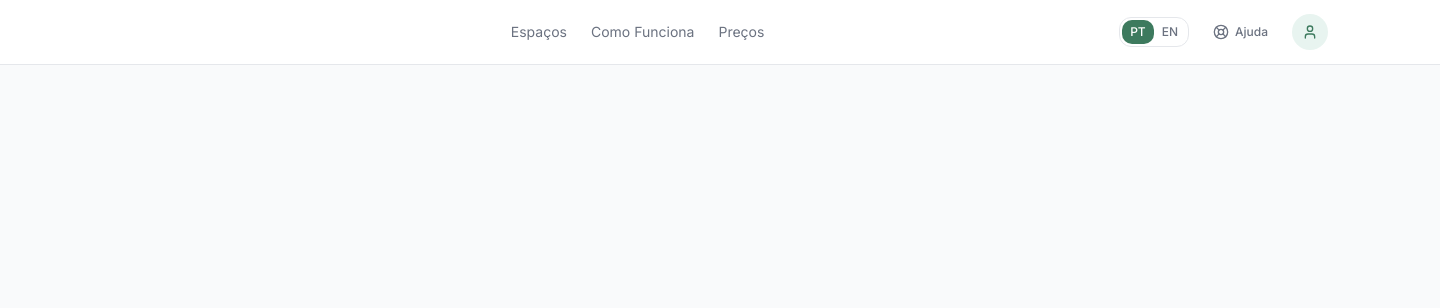
it: Navbar component i18n refactor (9.1) › offers reservations and sign-out to authenticated users
This screenshot has width=1440, height=308.
// B69: the signed-in entries sit behind the account menu on desktop.
Press Enter in the button named "A sua conta", box [1292,14,1328,50]
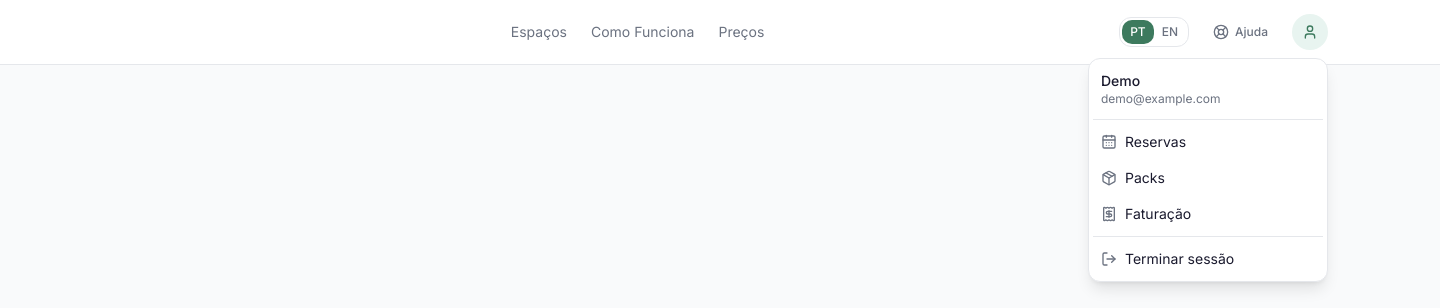
Now the menu item "Terminar sessão" is shown, box [1093,241,1323,277]
Now the text "demo@example.com" is shown, box [1101,91,1220,106]
Press Escape in the menu, box [1088,58,1328,282]
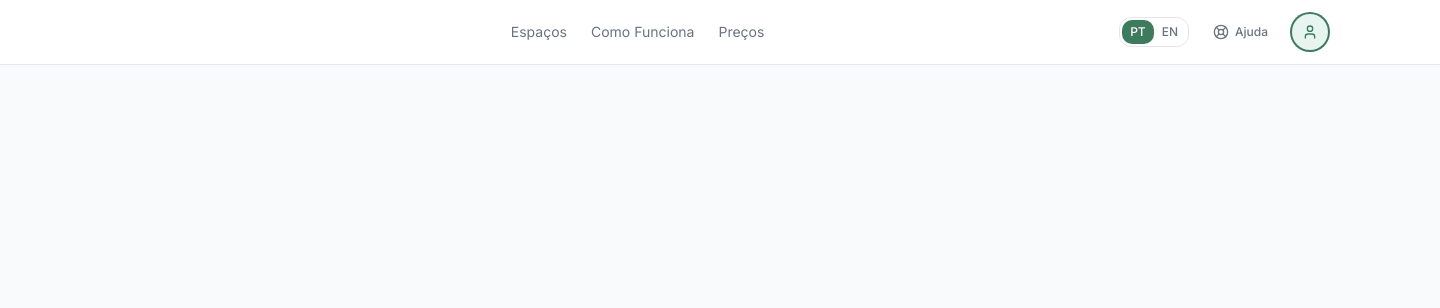
Now the menu is gone
Now the button named "A sua conta" is collapsed
Click the button named "A sua conta" at (1310, 32), box [1292,14,1328,50]
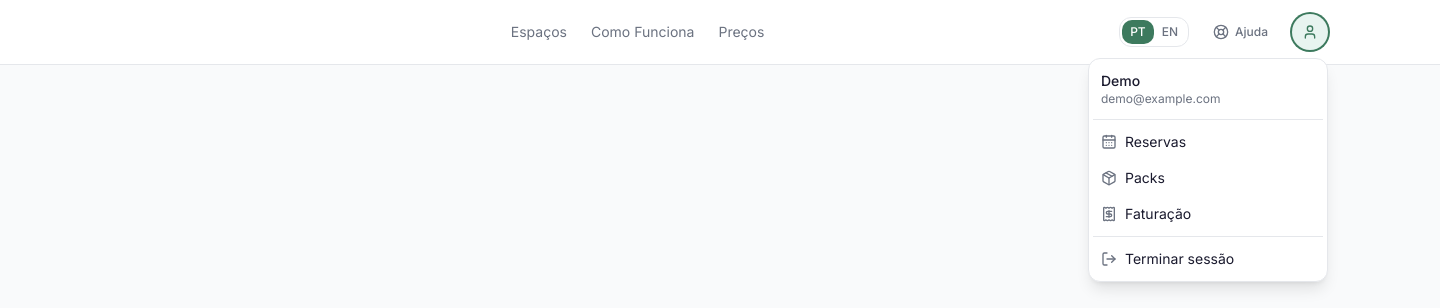
Now the menu is shown, box [1088,58,1328,282]
Press the mouse on the element that starts with "Espaços" at (720, 32), box [0,0,1439,65]
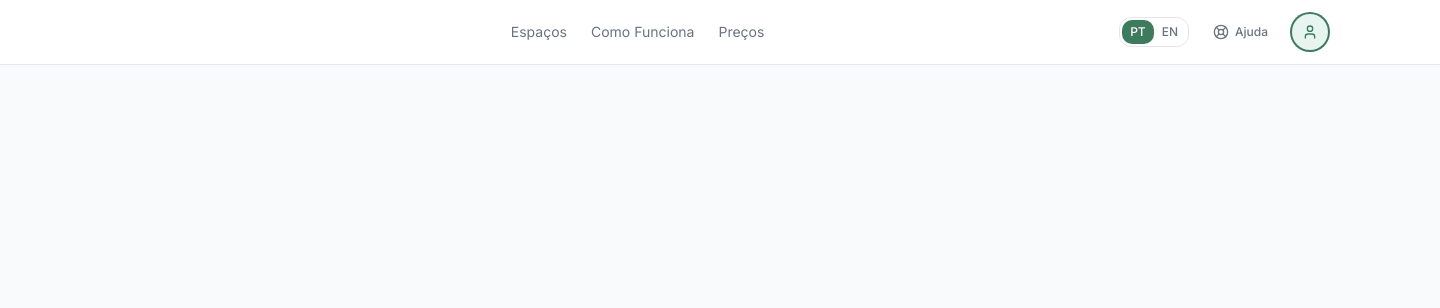
Now the menu is gone
